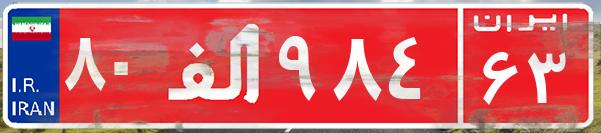0: (110, 28, 158, 105)
3: (525, 38, 570, 115)
4: (385, 28, 445, 110)
6: (475, 38, 525, 113)
8: (330, 28, 385, 110), (57, 26, 110, 107)
9: (273, 28, 330, 110)
الف: (158, 15, 273, 115)
